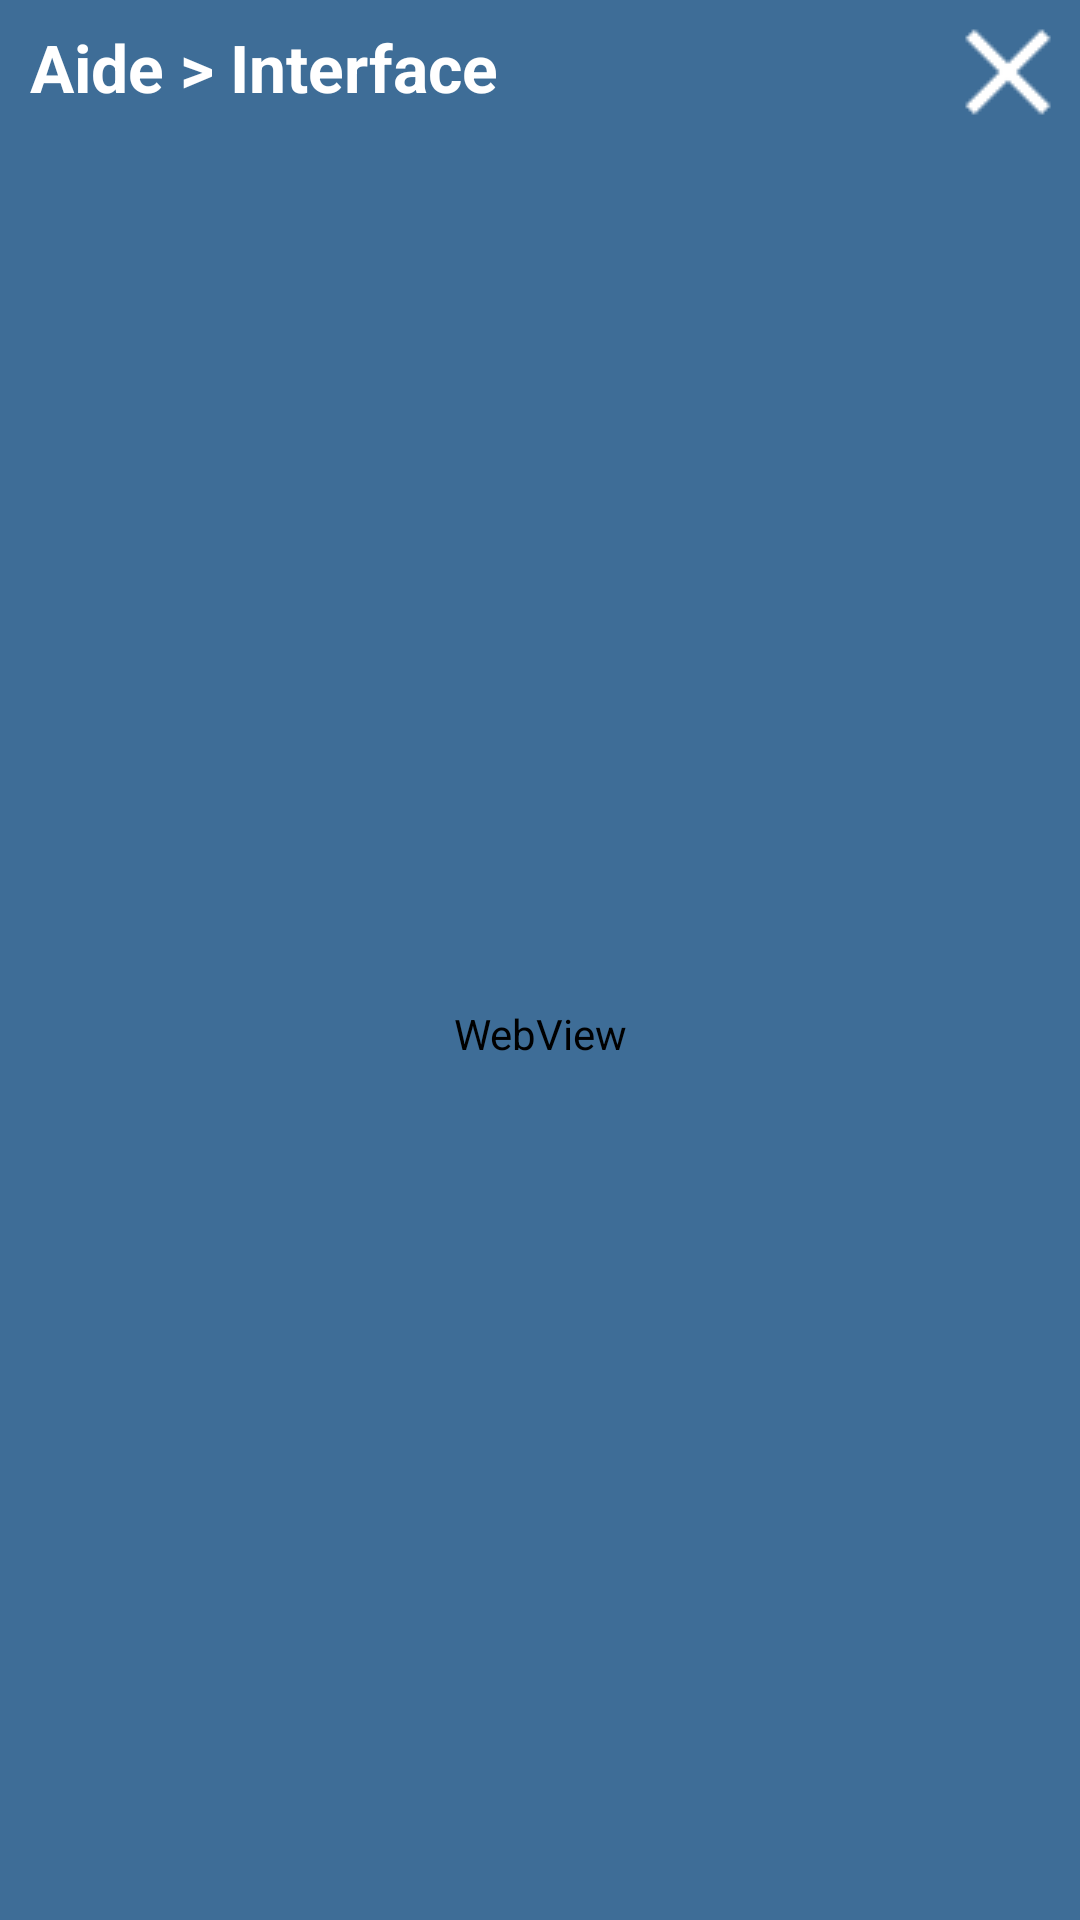

Screen size 1080w x 1920h. Icon name, then its center in pixels as point (x, y):
close: point (1008, 72)
